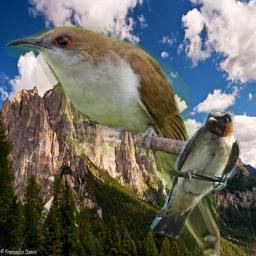Cuckoo: (5, 26, 220, 256)
Swallow: (149, 108, 241, 239)
